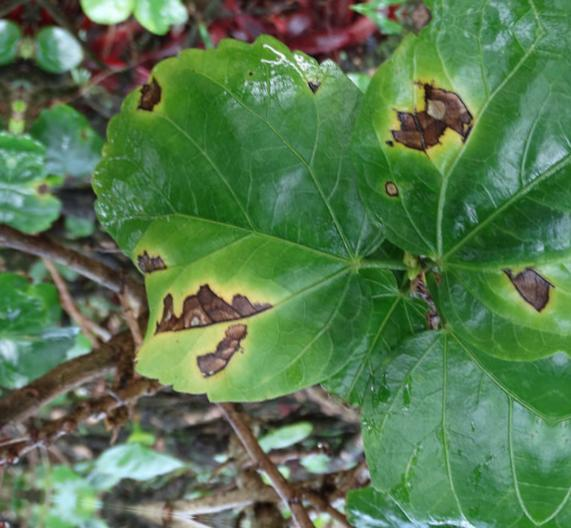Tomato Septoria leaf spot: (55, 28, 405, 426), (329, 9, 571, 353)
